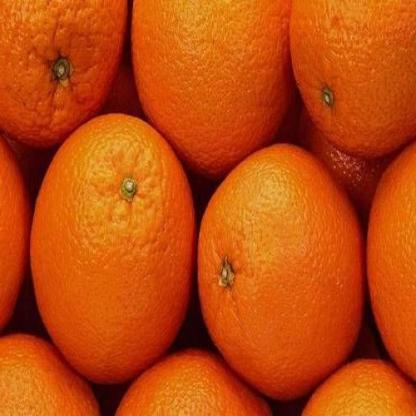orange: (30, 109, 200, 388), (194, 151, 368, 396), (122, 0, 304, 189)
